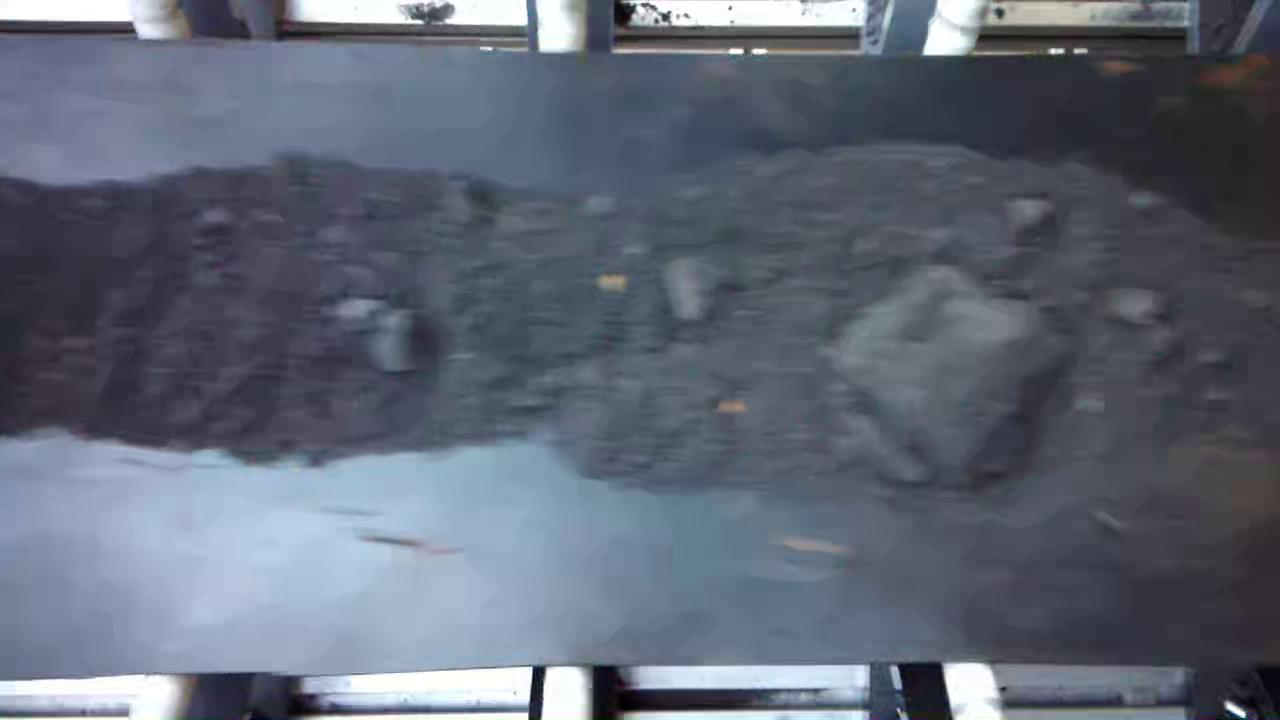conveyor: (3, 66, 1278, 654)
